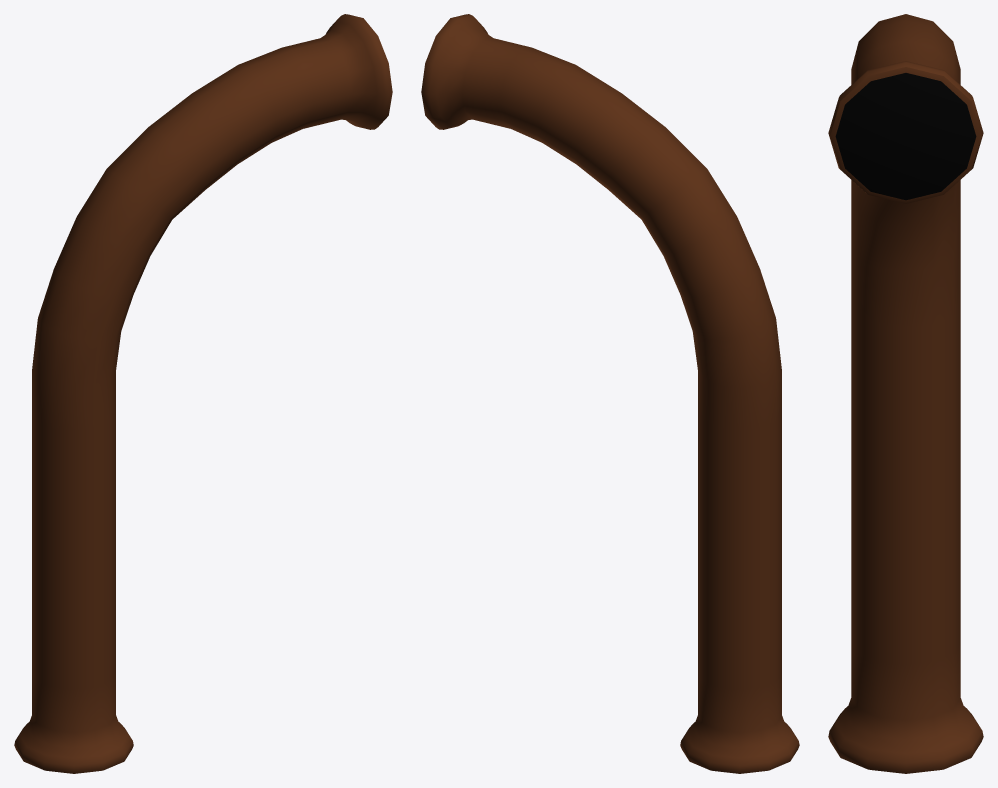
File: Pipe_Curve_2x2_4m.fbx
The picture shows the model from 3 angles, left to right: view 1: azimuth 30°, elevation 25°; view 2: azimuth 150°, elevation 25°; view 3: azimuth 270°, elevation 25°; orthographic projection. The views are drawn at different scales.
Visible parts, largest first — view 1: Pipe_Curve_2x2_4m; view 2: Pipe_Curve_2x2_4m; view 3: Pipe_Curve_2x2_4m.
Part boxes in pixels (x1,y1,x2,y2): Pipe_Curve_2x2_4m: [14, 14, 392, 773]; Pipe_Curve_2x2_4m: [421, 14, 799, 773]; Pipe_Curve_2x2_4m: [828, 14, 983, 773].
Size of the model in its own units: 236 by 436 by 71.06.
